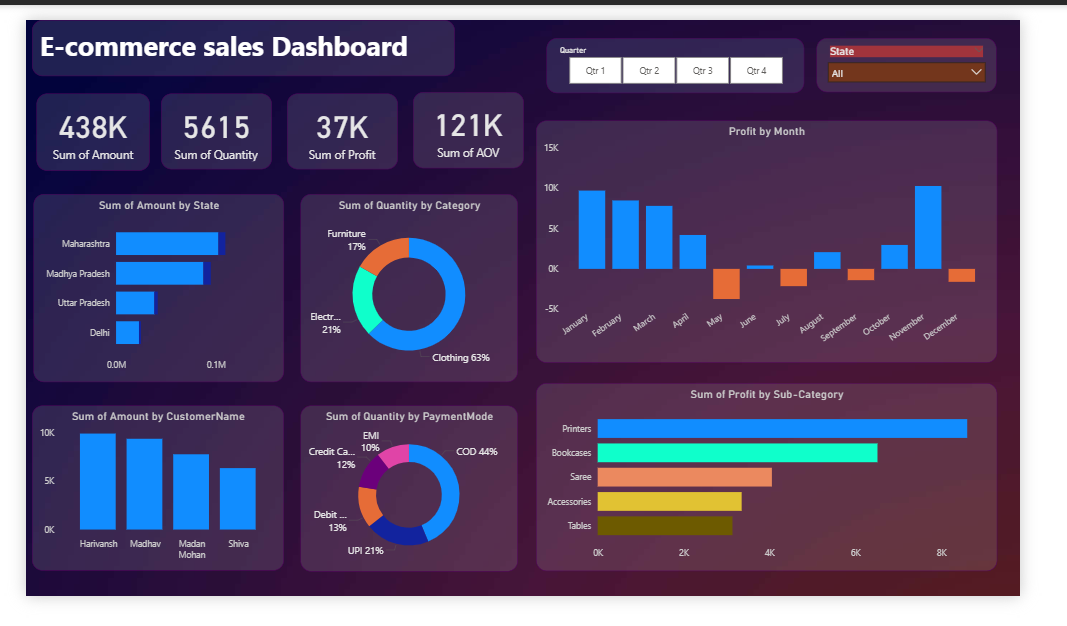

The page's visual inventory and layout, read from the dashboard file:
{"tool":"powerbi","page":{"name":"Page 1","canvas":[1380,800],"ordinal":0},"visuals":[{"type":"textbox","box":[9.3,0,587,77.8],"z":0},{"type":"columnChart","title":" Profit by Month","fields":{"Category":["Orders.Order Date.Variation.Date Hierarchy.Month"],"Y":["Details.Profit"]},"box":[707.7,140.4,640.4,336.5],"z":1000},{"type":"barChart","fields":{"Category":["Details.Sub-Category"],"Y":["Details.Profit"]},"box":[707.4,503.7,640.7,261.1],"z":2000},{"type":"donutChart","fields":{"Y":["Details.Quantity"],"Category":["Details.PaymentMode"]},"box":[380.8,534.6,301.9,230.8],"z":3000},{"type":"donutChart","fields":{"Y":["Details.Quantity"],"Category":["Details.Category"]},"box":[381.5,242.6,301.9,261.1],"z":4000},{"type":"card","fields":{"Values":["Details.Amount"]},"box":[13.6,102,157.4,107.4],"z":5000},{"type":"card","fields":{"Values":["Details.Profit"]},"box":[361.8,102,153.7,105.6],"z":6000},{"type":"card","fields":{"Values":["Details.Quantity"]},"box":[187.7,102,153.7,105.6],"z":7000},{"type":"card","fields":{"Values":["Details.AOV"]},"box":[536.5,100,153.8,105.8],"z":8000},{"type":"barChart","title":"Sum of Amount by State","fields":{"Category":["Orders.State","Details.Sub-Category"],"Y":["Details.Amount","Details.Profit"]},"box":[9.6,242.3,348.1,261.5],"z":9000},{"type":"columnChart","fields":{"Category":["Orders.CustomerName"],"Y":["Details.Amount"]},"box":[7.4,535.2,350,229.6],"z":9001},{"type":"slicer","fields":{"Values":["Orders.Order Date.Variation.Date Hierarchy.Quarter"]},"box":[723.1,25,357.7,76.9],"z":9002},{"type":"slicer","fields":{"Values":["Orders.State"]},"box":[1098.1,25,250,75],"z":9003}]}

Visuals, with their boxes in screenshot pixels (x1, y1, x2, y2), scaled from the page's 1380x800 canvas onto the 1067x626 screenshot:
textbox: 7, 0, 461, 61
" Profit by Month" columnChart: 547, 110, 1042, 373
barChart - Details.Sub-Category x Details.Profit: 547, 394, 1042, 598
donutChart - Details.Quantity x Details.PaymentMode: 294, 418, 528, 599
donutChart - Details.Quantity x Details.Category: 295, 190, 528, 394
card - Details.Amount: 11, 80, 132, 164
card - Details.Profit: 280, 80, 399, 162
card - Details.Quantity: 145, 80, 264, 162
card - Details.AOV: 415, 78, 534, 161
"Sum of Amount by State" barChart: 7, 190, 277, 394
columnChart - Orders.CustomerName x Details.Amount: 6, 419, 276, 598
slicer - Orders.Order Date.Variation.Date Hierarchy.Quarter: 559, 20, 836, 80
slicer - Orders.State: 849, 20, 1042, 78
